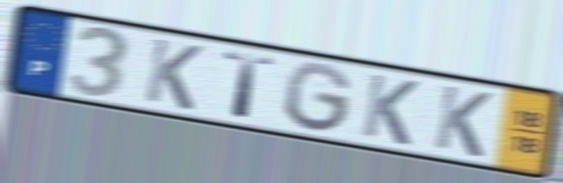3: (67, 25, 135, 100)
G: (283, 60, 357, 138)
K: (141, 35, 206, 114), (431, 82, 495, 161), (358, 70, 422, 149)
T: (221, 49, 279, 122)
